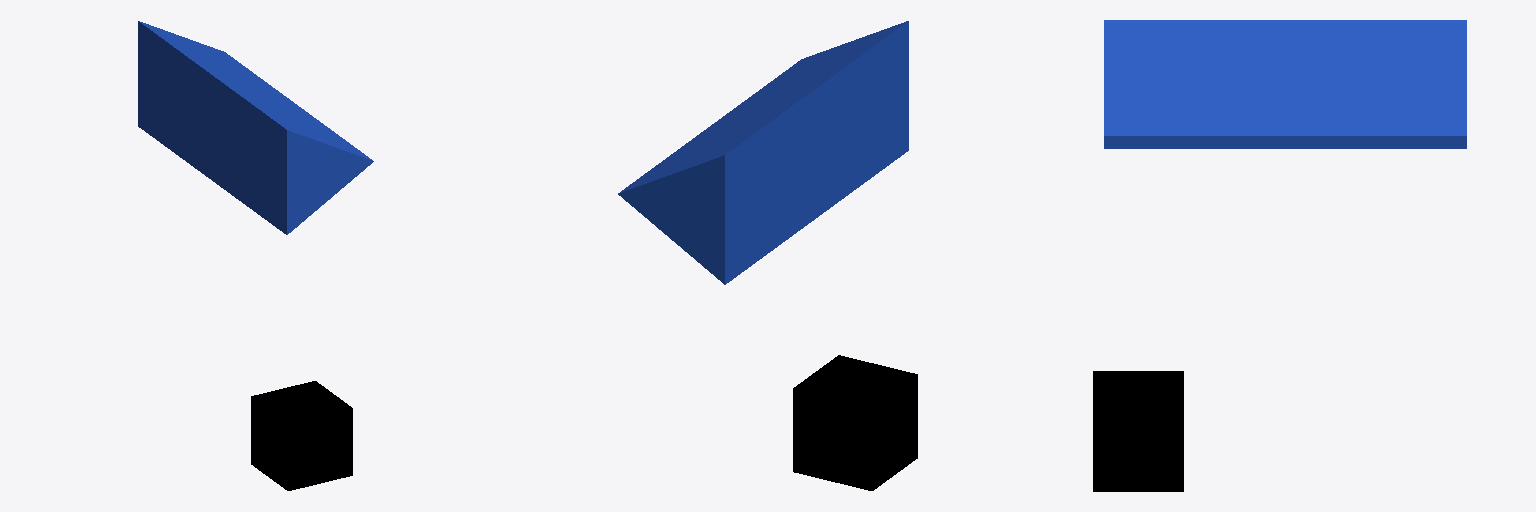
robot.urdf — ur5_robotiq_85:
<?xml version="1.0" ?>
<!-- =================================================================================== -->
<!-- |    This document was autogenerated by xacro from sisbot.xacro                   | -->
<!-- |    EDITING THIS FILE BY HAND IS NOT RECOMMENDED                                 | -->
<!-- =================================================================================== -->


<robot name="ur5_robotiq_85" xmlns:xacro="http://ros.org/wiki/xacro">
  <!--################################################
  ########              arm                    #######
  ####################################################-->

  <link name="base_link">
    <visual>
      <geometry>
        <mesh filename="../meshes/ur5/visual/base.obj"/>
      </geometry>
      <material name="LightGrey">
        <color rgba="0.7 0.7 0.7 1.0"/>
      </material>
    </visual>
    <collision>
      <geometry>
        <mesh filename="../meshes/ur5/collision/base.stl"/>
      </geometry>
    </collision>
    <inertial>
      <mass value="4.0"/>
      <origin rpy="0 0 0" xyz="0.0 0.0 0.0"/>
      <inertia ixx="0.00443333156" ixy="0.0" ixz="0.0" iyy="0.00443333156" iyz="0.0" izz="0.0072"/>
    </inertial>
  </link>

  <joint name="shoulder_pan_joint" type="revolute">
    <parent link="base_link"/>
    <child link="shoulder_link"/>
    <origin rpy="0.0 0.0 0.0" xyz="0.0 0.0 0.089159"/>
    <axis xyz="0 0 1"/>
    <limit effort="150.0" lower="-3.14159265359" upper="3.14159265359" velocity="3.15"/>
    <dynamics damping="0.0" friction="0.0"/>
  </joint>
  <link name="shoulder_link">
    <visual>
      <geometry>
        <mesh filename="../meshes/ur5/visual/shoulder.obj"/>
      </geometry>
      <material name="UR-Blue">
        <color rgba="0.376 0.576 0.674 1.0"/>
      </material>
    </visual>
    <collision>
      <geometry>
        <mesh filename="../meshes/ur5/collision/shoulder.stl"/>
      </geometry>
    </collision>
    <inertial>
      <mass value="3.7"/>
      <origin rpy="0 0 0" xyz="0.0 0.0 0.0"/>
      <inertia ixx="0.010267495893" ixy="0.0" ixz="0.0" iyy="0.010267495893" iyz="0.0" izz="0.00666"/>
    </inertial>
  </link>
  <joint name="shoulder_lift_joint" type="revolute">
    <parent link="shoulder_link"/>
    <child link="upper_arm_link"/>
    <origin rpy="0.0 1.57079632679 0.0" xyz="0.0 0.13585 0.0"/>
    <axis xyz="0 1 0"/>
    <limit effort="150.0" lower="-3.14159265359" upper="3.14159265359" velocity="3.15"/>
    <dynamics damping="0.0" friction="0.0"/>
  </joint>
  <link name="upper_arm_link">
    <visual>
      <geometry>
        <mesh filename="../meshes/ur5/visual/upperarm.obj"/>
      </geometry>
      <material name="LightGrey">
        <color rgba="0.7 0.7 0.7 1.0"/>
      </material>
    </visual>
    <collision>
      <geometry>
        <mesh filename="../meshes/ur5/collision/upperarm.stl"/>
      </geometry>
    </collision>
    <inertial>
      <mass value="8.393"/>
      <origin rpy="0 0 0" xyz="0.0 0.0 0.28"/>
      <inertia ixx="0.22689067591" ixy="0.0" ixz="0.0" iyy="0.22689067591" iyz="0.0" izz="0.0151074"/>
    </inertial>
  </link>
  <joint name="elbow_joint" type="revolute">
    <parent link="upper_arm_link"/>
    <child link="forearm_link"/>
    <origin rpy="0.0 0.0 0.0" xyz="0.0 -0.1197 0.425"/>
    <axis xyz="0 1 0"/>
    <limit effort="150.0" lower="-3.14159265359" upper="3.14159265359" velocity="3.15"/>
    <dynamics damping="0.0" friction="0.0"/>
  </joint>
  <link name="forearm_link">
    <visual>
      <geometry>
        <mesh filename="../meshes/ur5/visual/forearm.obj"/>
      </geometry>
      <material name="LightGrey">
        <color rgba="0.7 0.7 0.7 1.0"/>
      </material>
    </visual>
    <collision>
      <geometry>
        <mesh filename="../meshes/ur5/collision/forearm.stl"/>
      </geometry>
    </collision>
    <inertial>
      <mass value="2.275"/>
      <origin rpy="0 0 0" xyz="0.0 0.0 0.25"/>
      <inertia ixx="0.049443313556" ixy="0.0" ixz="0.0" iyy="0.049443313556" iyz="0.0" izz="0.004095"/>
    </inertial>
  </link>
  <joint name="wrist_1_joint" type="revolute">
    <parent link="forearm_link"/>
    <child link="wrist_1_link"/>
    <origin rpy="0.0 1.57079632679 0.0" xyz="0.0 0.0 0.39225"/>
    <axis xyz="0 1 0"/>
    <limit effort="28.0" lower="-3.14159265359" upper="3.14159265359" velocity="3.2"/>
    <dynamics damping="0.0" friction="0.0"/>
  </joint>
  <link name="wrist_1_link">
    <visual>
      <geometry>
        <mesh filename="../meshes/ur5/visual/wrist1.obj"/>
      </geometry>
      <material name="UR-Blue">
        <color rgba="0.376 0.576 0.674 1.0"/>
      </material>
    </visual>
    <collision>
      <geometry>
        <mesh filename="../meshes/ur5/collision/wrist1.stl"/>
      </geometry>
    </collision>
    <inertial>
      <mass value="1.219"/>
      <origin rpy="0 0 0" xyz="0.0 0.0 0.0"/>
      <inertia ixx="0.111172755531" ixy="0.0" ixz="0.0" iyy="0.111172755531" iyz="0.0" izz="0.21942"/>
    </inertial>
  </link>
  <joint name="wrist_2_joint" type="revolute">
    <parent link="wrist_1_link"/>
    <child link="wrist_2_link"/>
    <origin rpy="0.0 0.0 0.0" xyz="0.0 0.093 0.0"/>
    <axis xyz="0 0 1"/>
    <limit effort="28.0" lower="-3.14159265359" upper="3.14159265359" velocity="3.2"/>
    <dynamics damping="0.0" friction="0.0"/>
  </joint>
  <link name="wrist_2_link">
    <visual>
      <geometry>
        <mesh filename="../meshes/ur5/visual/wrist2.obj"/>
      </geometry>
      <material name="DarkGray">
        <color rgba="0.5 0.5 0.5 1.0"/>
      </material>
    </visual>
    <collision>
      <geometry>
        <mesh filename="../meshes/ur5/collision/wrist2.stl"/>
      </geometry>
    </collision>
    <inertial>
      <mass value="1.219"/>
      <origin rpy="0 0 0" xyz="0.0 0.0 0.0"/>
      <inertia ixx="0.111172755531" ixy="0.0" ixz="0.0" iyy="0.111172755531" iyz="0.0" izz="0.21942"/>
    </inertial>
  </link>
  <joint name="wrist_3_joint" type="revolute">
    <parent link="wrist_2_link"/>
    <child link="wrist_3_link"/>
    <origin rpy="0.0 0.0 0.0" xyz="0.0 0.0 0.09465"/>
    <axis xyz="0 1 0"/>
    <limit effort="28.0" lower="-3.14159265359" upper="3.14159265359" velocity="3.2"/>
    <dynamics damping="0.0" friction="0.0"/>
  </joint>
  <link name="wrist_3_link">
    <visual>
      <geometry>
        <mesh filename="../meshes/ur5/visual/wrist3.obj"/>
      </geometry>
      <material name="LightGrey">
        <color rgba="0.7 0.7 0.7 1.0"/>
      </material>
    </visual>
    <collision>
      <geometry>
        <mesh filename="../meshes/ur5/collision/wrist3.stl"/>
      </geometry>
    </collision>
    <inertial>
      <mass value="0.1879"/>
      <origin rpy="0 0 0" xyz="0.0 0.0 0.0"/>
      <inertia ixx="0.0171364731454" ixy="0.0" ixz="0.0" iyy="0.0171364731454" iyz="0.0" izz="0.033822"/>
    </inertial>
  </link>
  <joint name="ee_fixed_joint" type="fixed">
    <parent link="wrist_3_link"/>
    <child link="ee_link"/>
    <origin rpy="0.0 0.0 1.57079632679" xyz="0.0 0.0823 0.0"/>
  </joint>
  <link name="ee_link">
    <collision>
      <geometry>
        <box size="0.01 0.01 0.01"/>
      </geometry>
      <origin rpy="0 0 0" xyz="-0.01 0 0"/>
    </collision>
  </link>
  <!-- triangle link -->
  <link name="triangle_link">
    <visual>
      <origin xyz="0 0 0" rpy="0 0 0"/>
      <geometry>
          <!-- Point to trinagle peg mesh - reshaped such that it has ~0.012 clearance from all sides  and height is again 0.08 -->
          <mesh filename="triangle_peg.stl" scale="1 1 1"/>
      </geometry>
      <material name="Blue">
        <color rgba="0.2 0.4 0.8 1.0"/>
      </material>
    </visual>
    <collision>
      <origin xyz="0 0 0" rpy="0 0 0"/>
      <geometry>
        <mesh filename="triangle_peg.stl" scale="1 1 1"/>
      </geometry>
    </collision>
    <inertial>
      <mass value="0.1"/>
      <origin xyz="0 0 0.1" rpy="0 0 0"/>
      <inertia ixx="0.0001" ixy="0" ixz="0" iyy="0.0001" iyz="0" izz="0.0001"/>
    </inertial>
  </link>
  <!-- camera -->
  <link name="camera_link">
    <visual>
      <origin xyz="0 0 0" rpy="0 0 0"/>
      <geometry>
        <box size="0.02 0.02 0.02"/>  
      </geometry>
      <material name="black">
        <color rgba="0 0 0 1"/>
      </material>
    </visual>
    <collision>
      <origin xyz="0 0 0" rpy="0 0 0"/>
      <geometry>
        <box size="0.02 0.02 0.02"/>
      </geometry>
    </collision>
    <inertial>
      <mass value="0.01"/>
      <origin xyz="0 0 0" rpy="0 0 0"/>
      <inertia ixx="1e-5" ixy="0" ixz="0" iyy="1e-5" iyz="0" izz="1e-5"/>
    </inertial>
  </link>





<!--  triangle connect ee_link joint -->
<joint name="ee_triangle_joint" type="fixed">
  <parent link="ee_link"/>
  <child link="triangle_link"/>
  <origin rpy="0 -1.57079632679 0" xyz="0 0 0"/>
</joint>
<!-- camera connect wrist_3_link joint -->
<joint name="camera_joint" type="fixed">
  <parent link="wrist_3_link"/>
  <child link="camera_link"/>
  <origin xyz="0 0.05 0.08" rpy="1.57079632679 1.57079632679 0"/>
</joint>


</robot>

--- What the picture shows (computed from the rendered views, not written in the file) ---
The picture shows the robot from 3 angles, left to right: view 1: azimuth 30°, elevation 25°; view 2: azimuth 150°, elevation 25°; view 3: azimuth 270°, elevation 25°; orthographic projection.
Robot: ur5_robotiq_85 — 10 links, 9 joints (6 revolute, 3 fixed); root link base_link; default pose: all joints at 0.
Links seen in each view (by area): view 1: triangle_link, camera_link; view 2: triangle_link, camera_link; view 3: triangle_link, camera_link.
Link boxes in pixels (x1,y1,x2,y2): triangle_link: (138, 21, 373, 234); camera_link: (251, 381, 352, 490); triangle_link: (618, 21, 908, 284); camera_link: (793, 355, 917, 490); triangle_link: (1104, 20, 1466, 148); camera_link: (1093, 371, 1183, 491).
Bounding box of the posed robot: 0.028 × 0.0823 × 0.1056 m (x, y, z).
Meshes: 8 distinct files referenced, 1 mesh visuals loaded (1 binary STL); not drawn: 7 (reference not matched to a file when rendering).